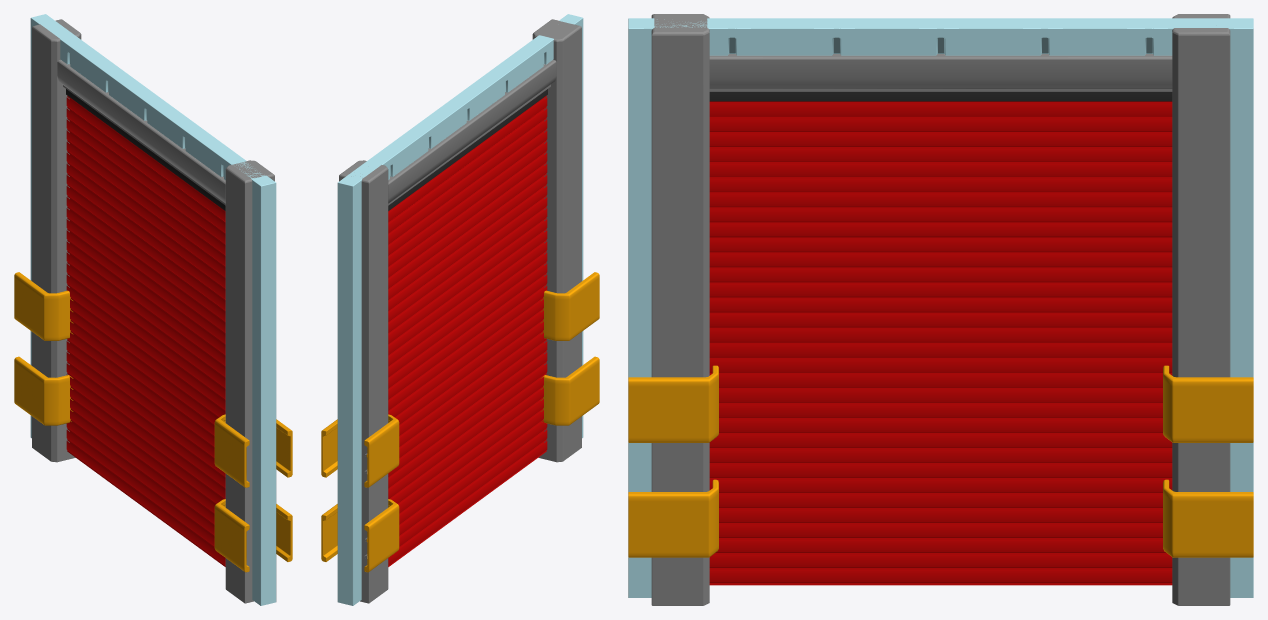
The model's file is Doorframe_Delivery_shut.glb.
The picture shows the model from 3 angles, left to right: view 1: azimuth 30°, elevation 25°; view 2: azimuth 150°, elevation 25°; view 3: azimuth 270°, elevation 25°; orthographic projection. The views are drawn at different scales.
Visible parts, largest first — view 1: Doorframe_Delivery_shutter, Doorframe_Delivery_Closed; view 2: Doorframe_Delivery_shutter, Doorframe_Delivery_Closed; view 3: Doorframe_Delivery_shutter, Doorframe_Delivery_Closed.
Part boxes in pixels (x1,y1,x2,y2): Doorframe_Delivery_shutter: (66, 95, 225, 566); Doorframe_Delivery_Closed: (14, 14, 292, 605); Doorframe_Delivery_shutter: (388, 95, 547, 566); Doorframe_Delivery_Closed: (321, 14, 599, 605); Doorframe_Delivery_shutter: (709, 101, 1172, 585); Doorframe_Delivery_Closed: (628, 14, 1253, 605).
Size of what is drawn, in the model's own units: 0.4861 by 4.04 by 4.
1 material, 1 textured.
